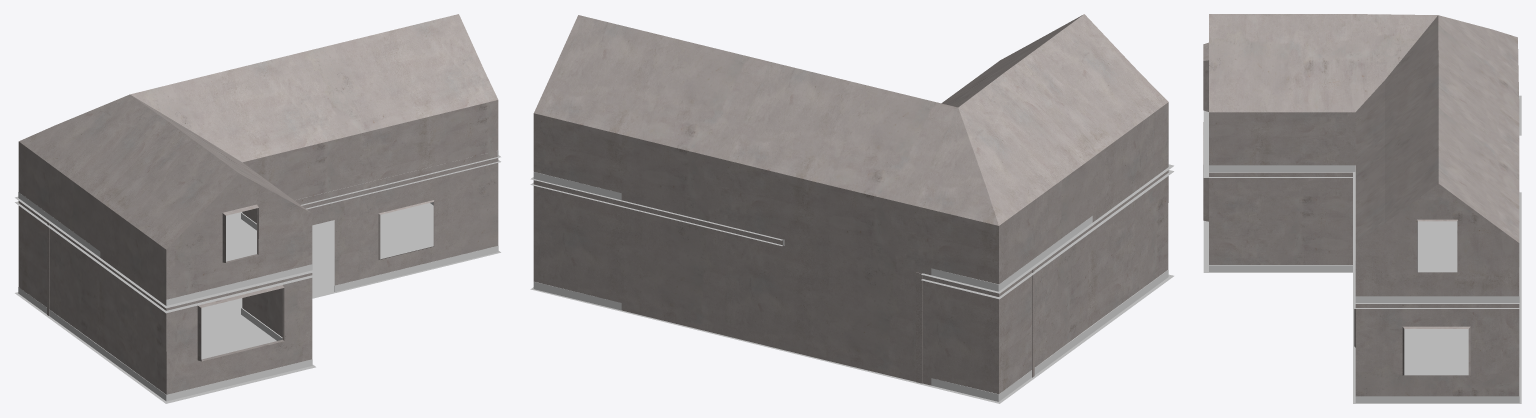
File: Interior.fbx
3 views of the same model, side by side, from view 1: azimuth 30°, elevation 25°; view 2: azimuth 150°, elevation 25°; view 3: azimuth 270°, elevation 25° (orthographic). The views are drawn at different scales.
Visible parts, largest first — view 1: Walls, WoodFloor, Cube.001, WoodFloor.001, Cube.002, WoodFloor.002; view 2: Walls, Cube.001, Cube.002, WoodFloor, WoodFloor.002, WoodFloor.001, Cube; view 3: Walls, WoodFloor, WoodFloor.001, Cube.002, Cube.001, WoodFloor.002.
Boxes of the visible parts, bbox=[...] form: Walls: bbox=[18, 14, 498, 394]; WoodFloor: bbox=[15, 203, 500, 403]; Cube.001: bbox=[18, 202, 498, 401]; WoodFloor.001: bbox=[15, 155, 500, 308]; Cube.002: bbox=[18, 150, 498, 305]; WoodFloor.002: bbox=[15, 160, 500, 313]; Walls: bbox=[533, 14, 1168, 394]; Cube.001: bbox=[533, 269, 1168, 401]; Cube.002: bbox=[533, 172, 1092, 291]; WoodFloor: bbox=[530, 274, 1173, 403]; WoodFloor.002: bbox=[530, 170, 1173, 299]; WoodFloor.001: bbox=[530, 164, 1173, 293]; Cube: bbox=[916, 268, 1034, 383]; Walls: bbox=[1203, 14, 1519, 396]; WoodFloor: bbox=[1203, 221, 1521, 403]; WoodFloor.001: bbox=[1203, 95, 1521, 303]; Cube.002: bbox=[1209, 165, 1519, 302]; Cube.001: bbox=[1209, 265, 1519, 402]; WoodFloor.002: bbox=[1203, 130, 1521, 308].
Size of the model in its own units: 2715 by 1345 by 1755.
